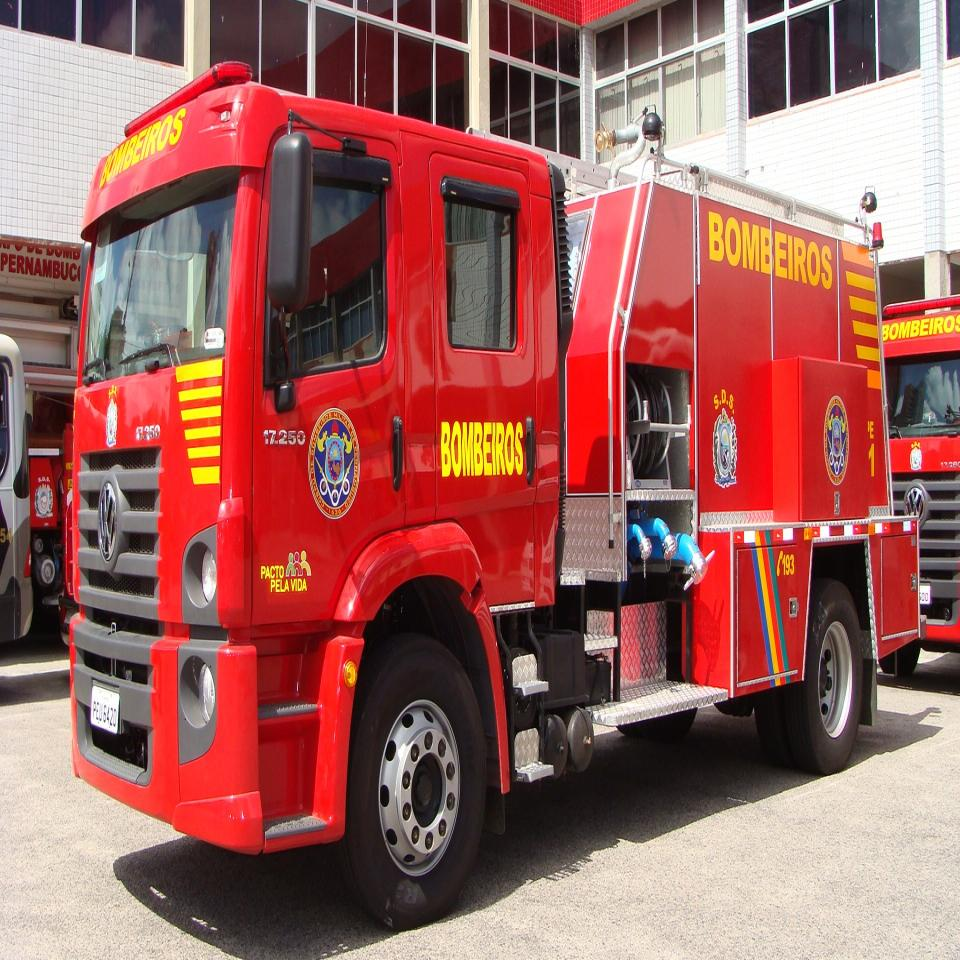viatura: (65, 61, 923, 932), (883, 292, 960, 680)
